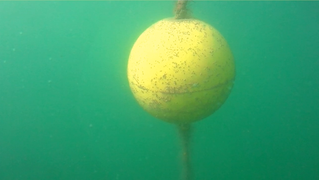buoy: (126, 17, 236, 124)
